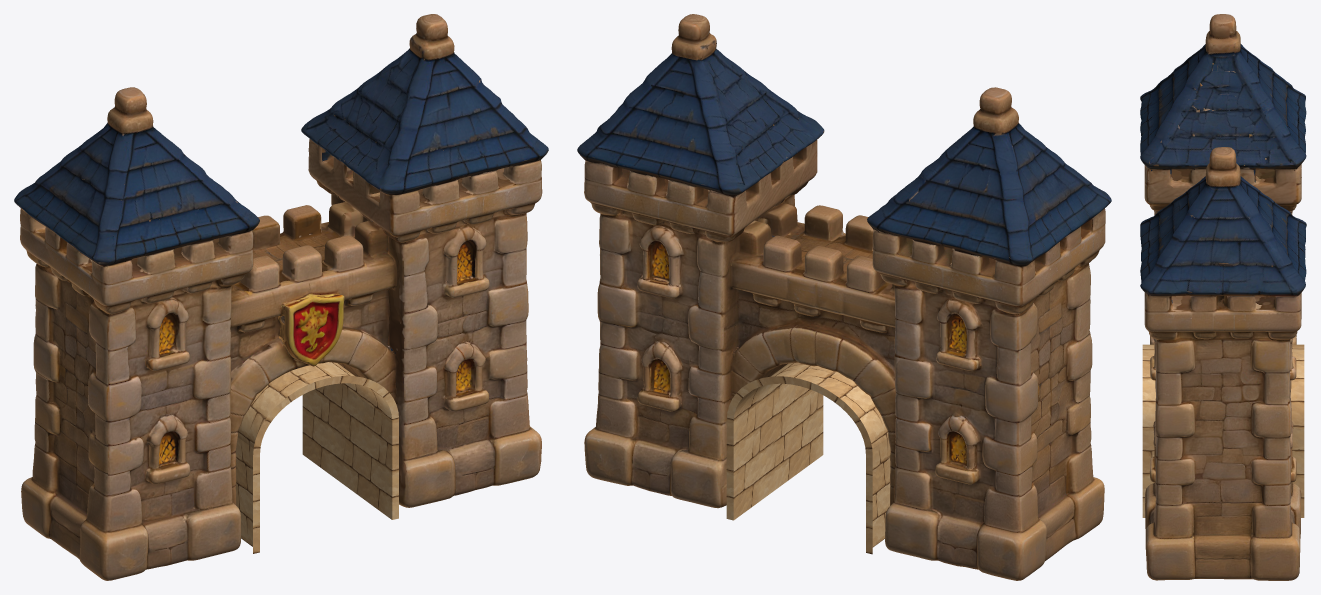
The model's file is ck_gatehouse.glb.
3 views of the same model, side by side, from view 1: azimuth 30°, elevation 25°; view 2: azimuth 150°, elevation 25°; view 3: azimuth 270°, elevation 25° (orthographic). The views are drawn at different scales.
Visible parts, largest first — view 1: ck_gatehouse, GateLining; view 2: ck_gatehouse, GateLining; view 3: ck_gatehouse, GateLining.
Boxes of the visible parts, box(x1,y1,x2,y2) form: ck_gatehouse: box(14, 14, 548, 580); GateLining: box(235, 362, 398, 553); ck_gatehouse: box(577, 14, 1111, 580); GateLining: box(726, 362, 890, 554); ck_gatehouse: box(1140, 14, 1306, 580); GateLining: box(1142, 344, 1304, 517).
Bounding box in the file's own units: 1.97 × 1.85 × 0.6898.
2 materials, 2 textured.
